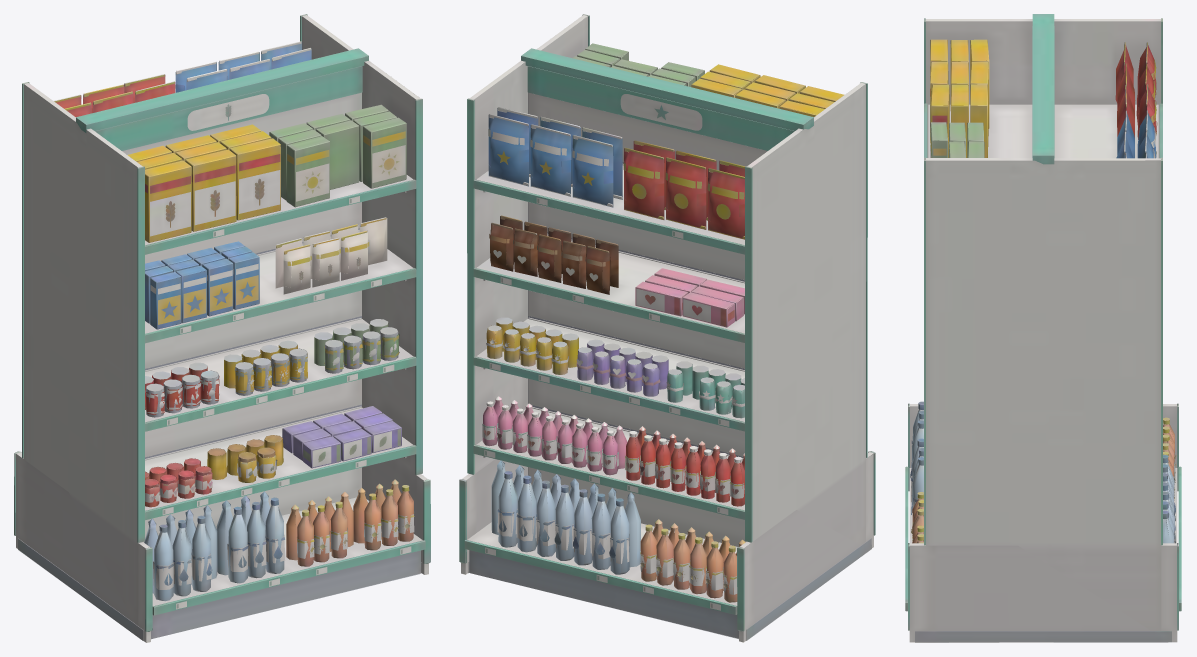
Rendered from grocery-shelf.glb.
The picture shows the model from 3 angles, left to right: view 1: azimuth 30°, elevation 25°; view 2: azimuth 150°, elevation 25°; view 3: azimuth 270°, elevation 25°; orthographic projection. The views are drawn at different scales.
Parts seen in each view (by area): view 1: grocery-shelf_body; view 2: grocery-shelf_body; view 3: grocery-shelf_body.
Boxes of the visible parts, bbox=[...] form: grocery-shelf_body: bbox=[14, 14, 430, 642]; grocery-shelf_body: bbox=[459, 14, 875, 642]; grocery-shelf_body: bbox=[905, 14, 1181, 642].
Size of the model in its own units: 1.25 by 2 by 1.04.
Materials: 1 (1 with a texture image).
